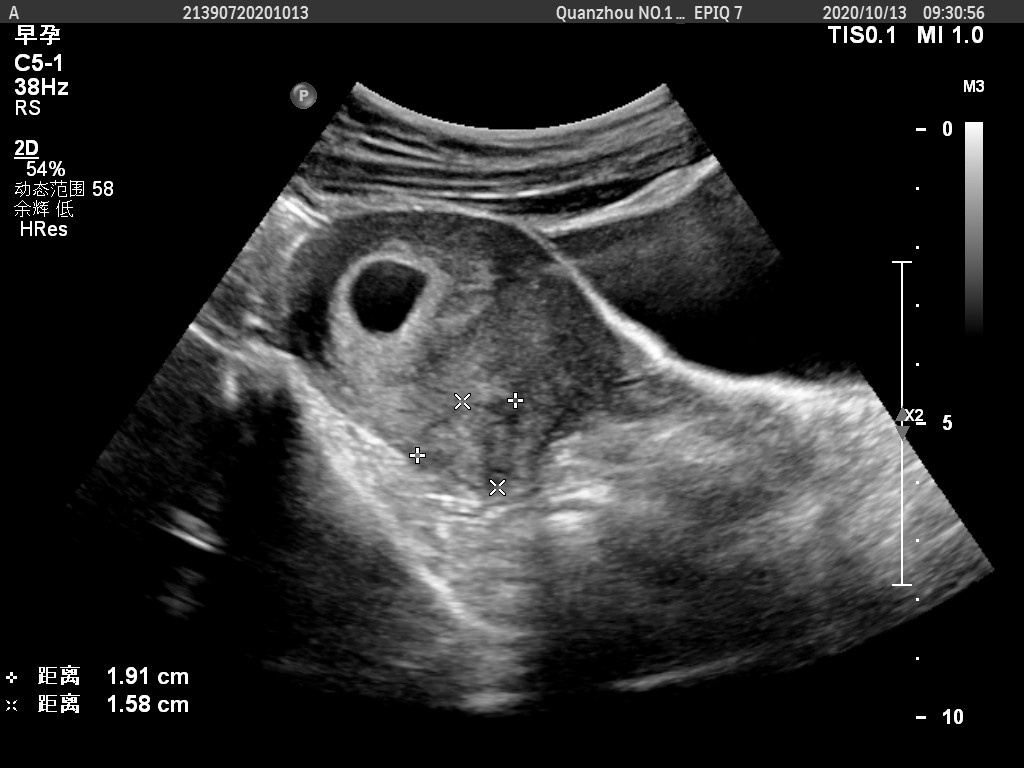肌瘤: (415, 404, 519, 491)
